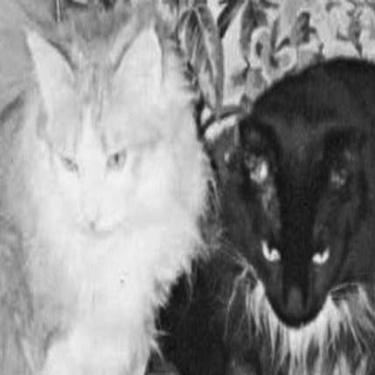cat: (5, 22, 216, 372), (154, 56, 371, 371)
